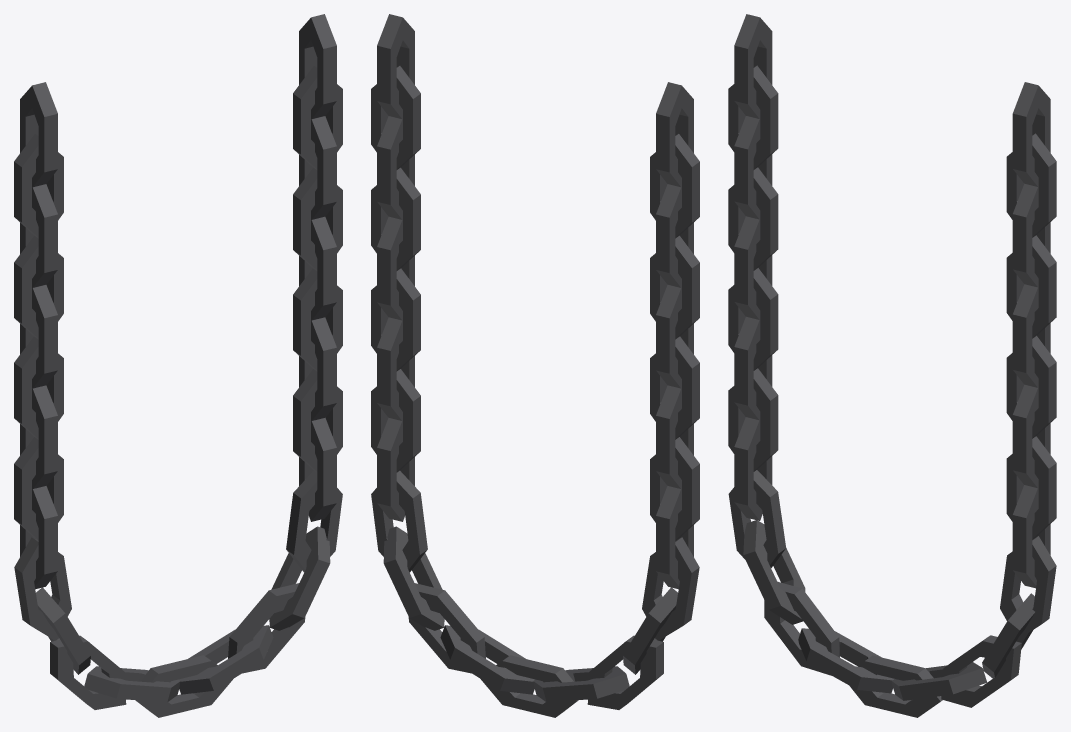
Rendered from SM_Prp_Chain_02.gltf.
The picture shows the model from 3 angles, left to right: view 1: azimuth 30°, elevation 25°; view 2: azimuth 150°, elevation 25°; view 3: azimuth 330°, elevation 25°; orthographic projection.
Parts seen in each view (by area): view 1: SM_Prp_Chain_02; view 2: SM_Prp_Chain_02; view 3: SM_Prp_Chain_02.
Part boxes in pixels (left/top/right/bottom): SM_Prp_Chain_02: left=14, top=14, right=342, bottom=717; SM_Prp_Chain_02: left=371, top=14, right=699, bottom=717; SM_Prp_Chain_02: left=728, top=14, right=1056, bottom=717.
Bounding box in the file's own units: 0.8406 × 1.65 × 0.1103.
Materials: 1 (1 with a texture image).
